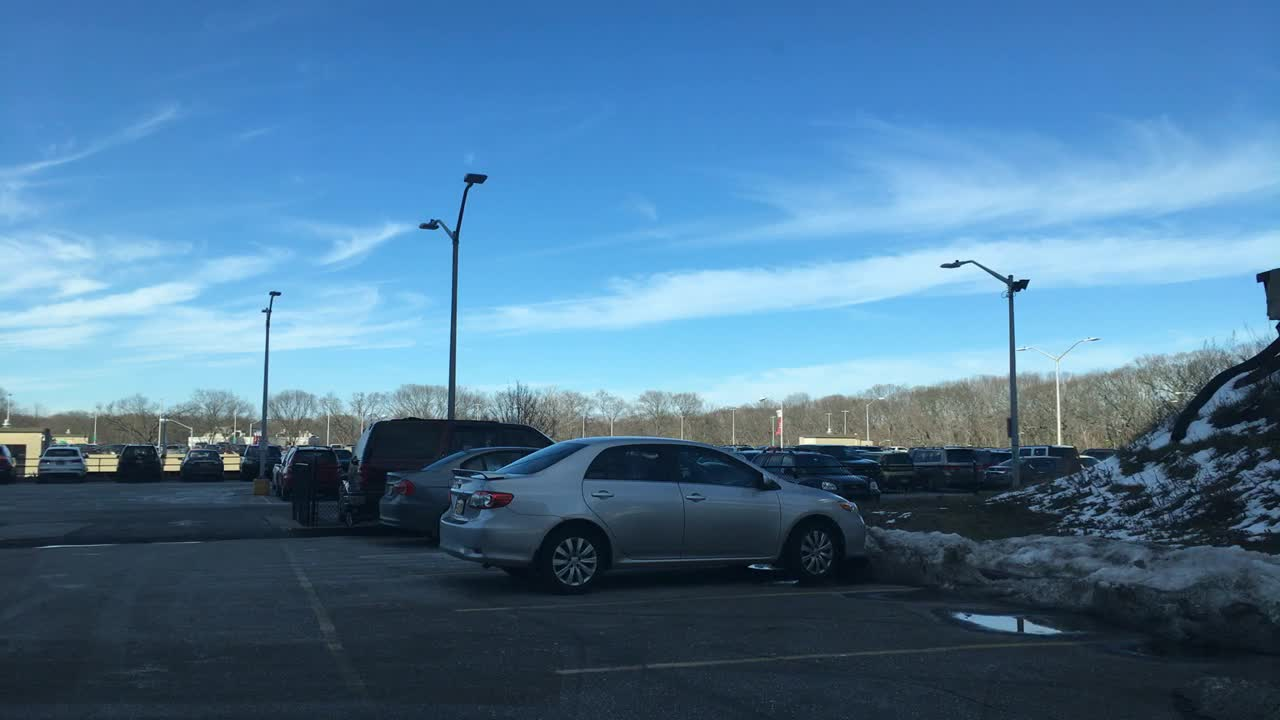car: (435, 435, 869, 594), (339, 416, 559, 533), (374, 444, 551, 543), (755, 447, 885, 506), (783, 442, 885, 494), (271, 447, 343, 501), (991, 456, 1079, 487), (935, 442, 986, 494), (1016, 423, 1080, 461), (112, 444, 166, 484), (236, 440, 283, 482), (33, 445, 87, 480), (178, 452, 227, 484), (878, 452, 921, 487), (911, 445, 939, 496), (330, 442, 355, 480), (715, 442, 755, 465), (851, 444, 885, 465), (0, 444, 17, 484), (982, 445, 1014, 463), (1082, 445, 1122, 459), (1073, 452, 1100, 472), (213, 438, 234, 459), (68, 440, 93, 456), (879, 442, 912, 454), (292, 435, 320, 449), (110, 437, 128, 458), (96, 440, 114, 459), (164, 442, 187, 456), (190, 440, 213, 452), (86, 438, 100, 456)
